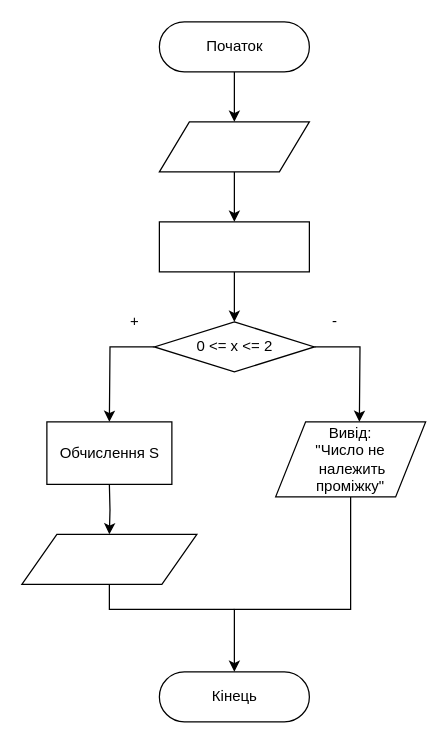
The diagram is 448 pixels wide and 744 high, and some of its shapes have lost their labels. The centre of each missing label's shape, as x and y in pixels:
"term = 1, S = 0," belongs at (x=233, y=246).
"Ввод х" belongs at (x=233, y=146).
"Вивід S" belongs at (x=109, y=558).
